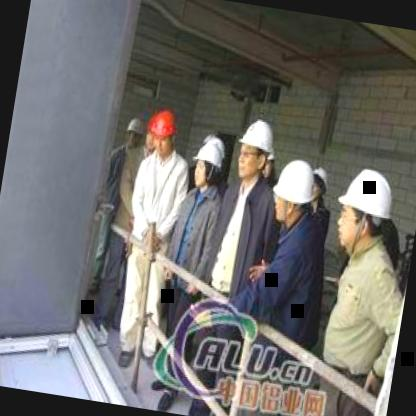helmet: (329, 158, 402, 262), (228, 108, 284, 188), (268, 154, 319, 228), (186, 136, 227, 197), (149, 103, 182, 159), (308, 164, 333, 206), (121, 112, 146, 152), (142, 108, 160, 152)
